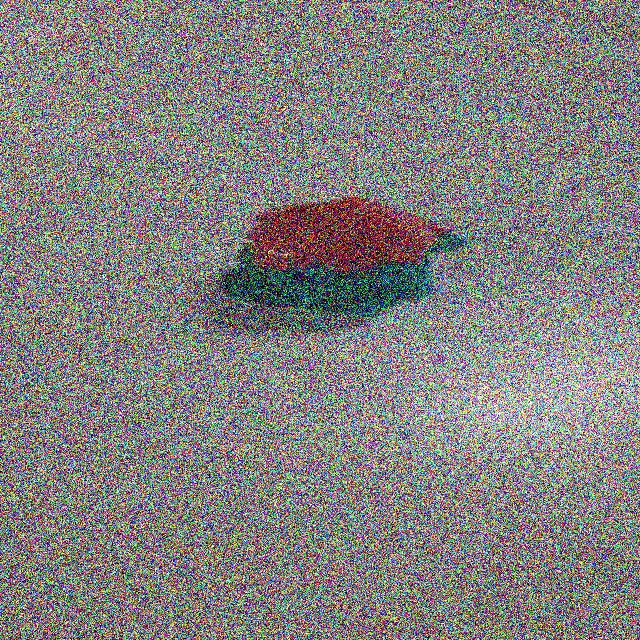House: (204, 194, 460, 316)
